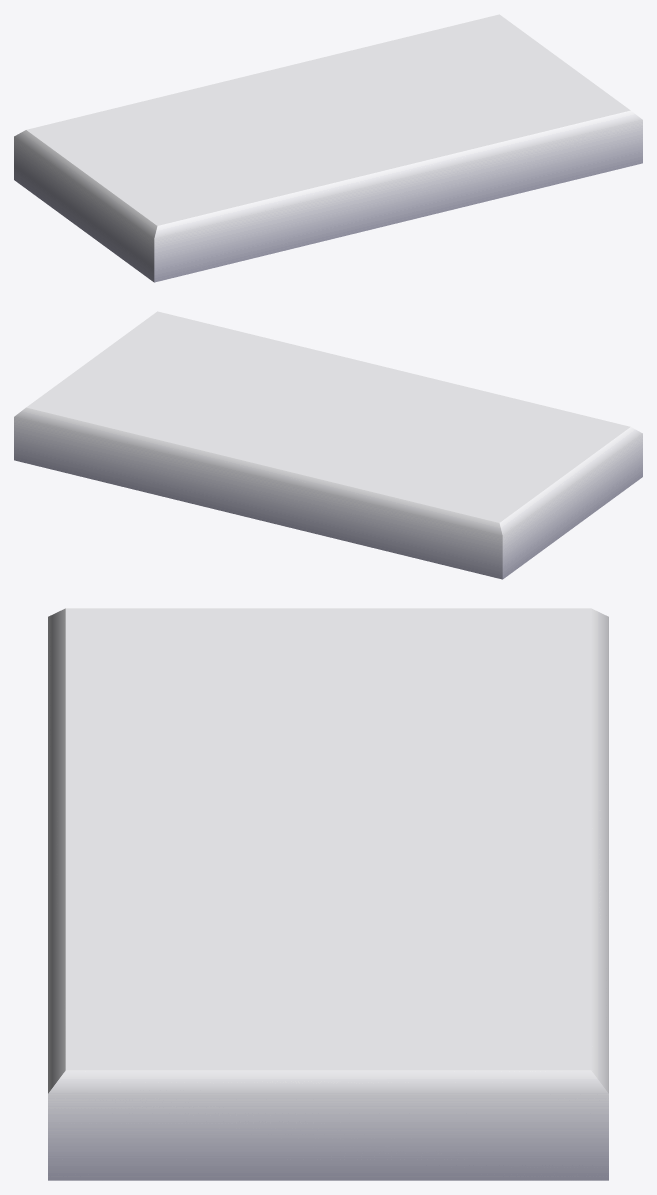
Rendered from none-hq-plate-2x4.glb.
3 views of the same model, one above another, from view 1: azimuth 30°, elevation 25°; view 2: azimuth 150°, elevation 25°; view 3: azimuth 270°, elevation 25° (orthographic). The views are drawn at different scales.
Parts seen in each view (by area): view 1: none-hq-plate-2x4; view 2: none-hq-plate-2x4; view 3: none-hq-plate-2x4.
Boxes of the visible parts, x1,y1,x2,y2 form: none-hq-plate-2x4: (14,14,642,282); none-hq-plate-2x4: (14,311,642,579); none-hq-plate-2x4: (48,608,608,1180).
Size of the model in its own units: 1.59 by 0.16 by 0.79.
1 material, 1 textured.
